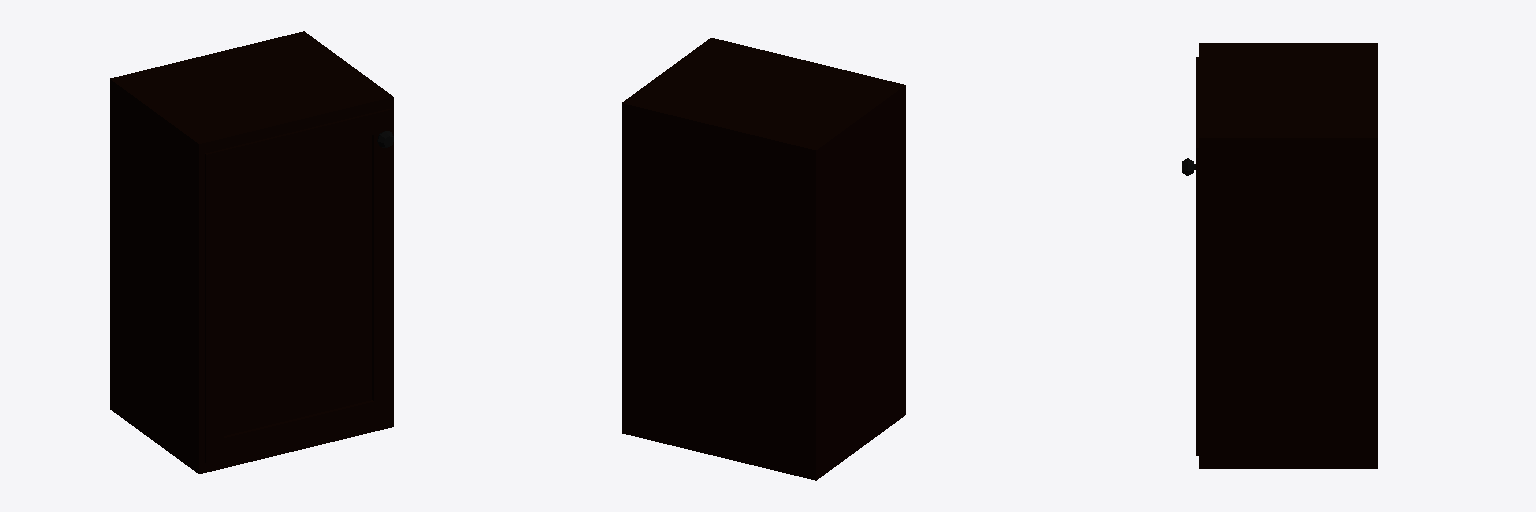
File: SingleDoorUpperCabinet1.obj
3 renders of one model, left to right at view 1: azimuth 30°, elevation 25°; view 2: azimuth 150°, elevation 25°; view 3: azimuth 270°, elevation 25°, orthographic.
Visible parts, largest first — view 1: Door1SingleDoorUpperCabinet1_Cube.008, SingleDoorUpperCabinet1_Cube.002; view 2: SingleDoorUpperCabinet1_Cube.002; view 3: SingleDoorUpperCabinet1_Cube.002, Door1SingleDoorUpperCabinet1_Cube.008.
Boxes of the visible parts, box(x1,y1,x2,y2) form: Door1SingleDoorUpperCabinet1_Cube.008: box(205, 108, 393, 463); SingleDoorUpperCabinet1_Cube.002: box(110, 31, 393, 473); SingleDoorUpperCabinet1_Cube.002: box(622, 38, 905, 480); SingleDoorUpperCabinet1_Cube.002: box(1199, 43, 1377, 468); Door1SingleDoorUpperCabinet1_Cube.008: box(1182, 57, 1198, 455).
Size of the model in its own units: 0.4834 by 0.7835 by 0.4222.